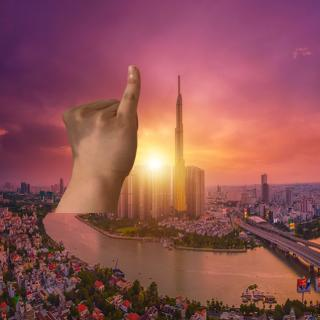FINE: (57, 62, 147, 192)
